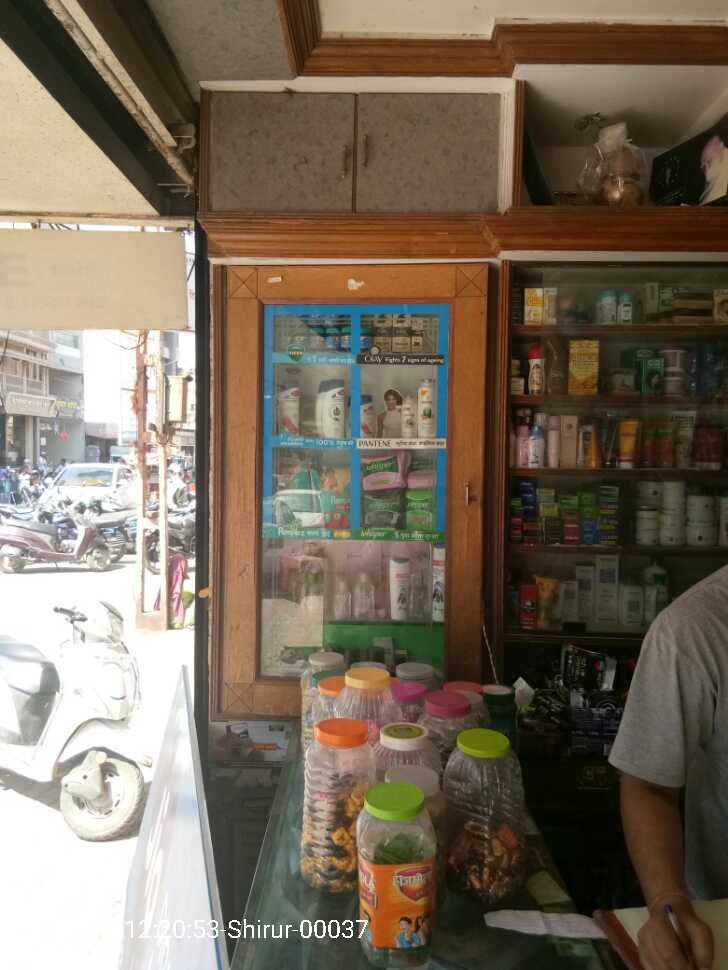vicks: (280, 318, 347, 350)
